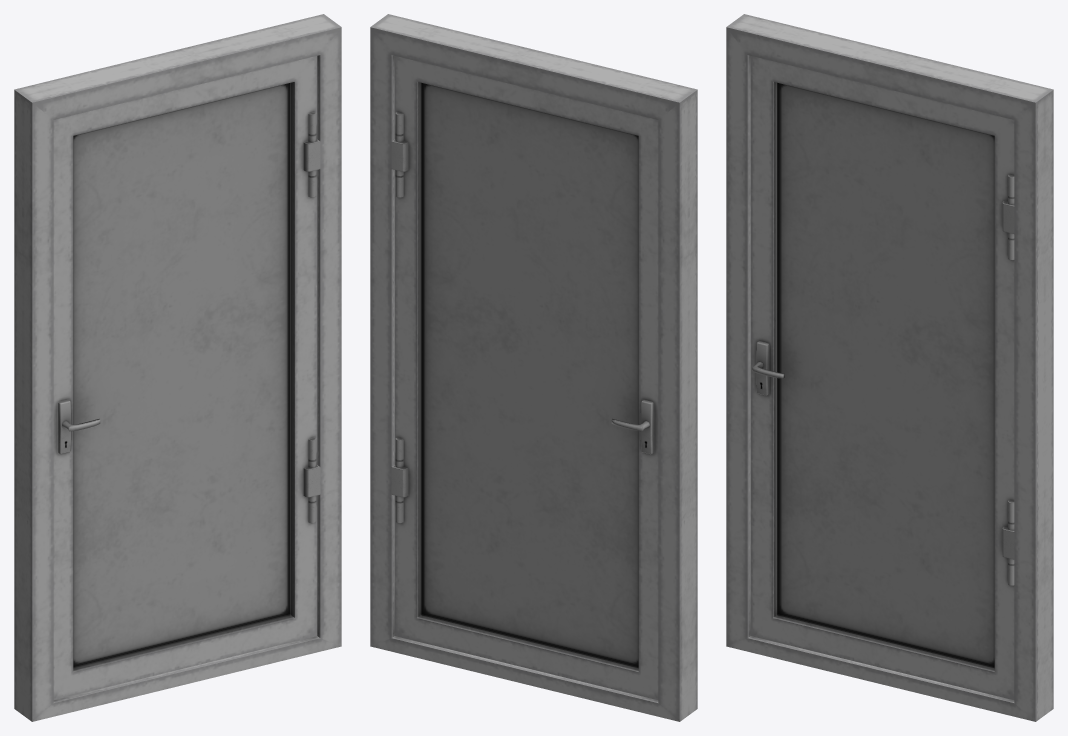
The model's file is Warehouse Office Door  5 A.fbx.
The picture shows the model from 3 angles, left to right: view 1: azimuth 30°, elevation 25°; view 2: azimuth 150°, elevation 25°; view 3: azimuth 330°, elevation 25°; orthographic projection.
Visible parts, largest first — view 1: WH_Office_Door_5_A_Base, WH_Office_Door_5_A_Door_Frame; view 2: WH_Office_Door_5_A_Base, WH_Office_Door_5_A_Door_Frame; view 3: WH_Office_Door_5_A_Base, WH_Office_Door_5_A_Door_Frame.
Part boxes in pixels (box(x1,y1,x2,y2)): WH_Office_Door_5_A_Base: box(53, 56, 320, 699); WH_Office_Door_5_A_Door_Frame: box(14, 14, 341, 721); WH_Office_Door_5_A_Base: box(391, 56, 658, 699); WH_Office_Door_5_A_Door_Frame: box(370, 14, 697, 721); WH_Office_Door_5_A_Base: box(750, 56, 1014, 699); WH_Office_Door_5_A_Door_Frame: box(726, 14, 1053, 721).
Size of the model in its own units: 115 by 220 by 20.02.
